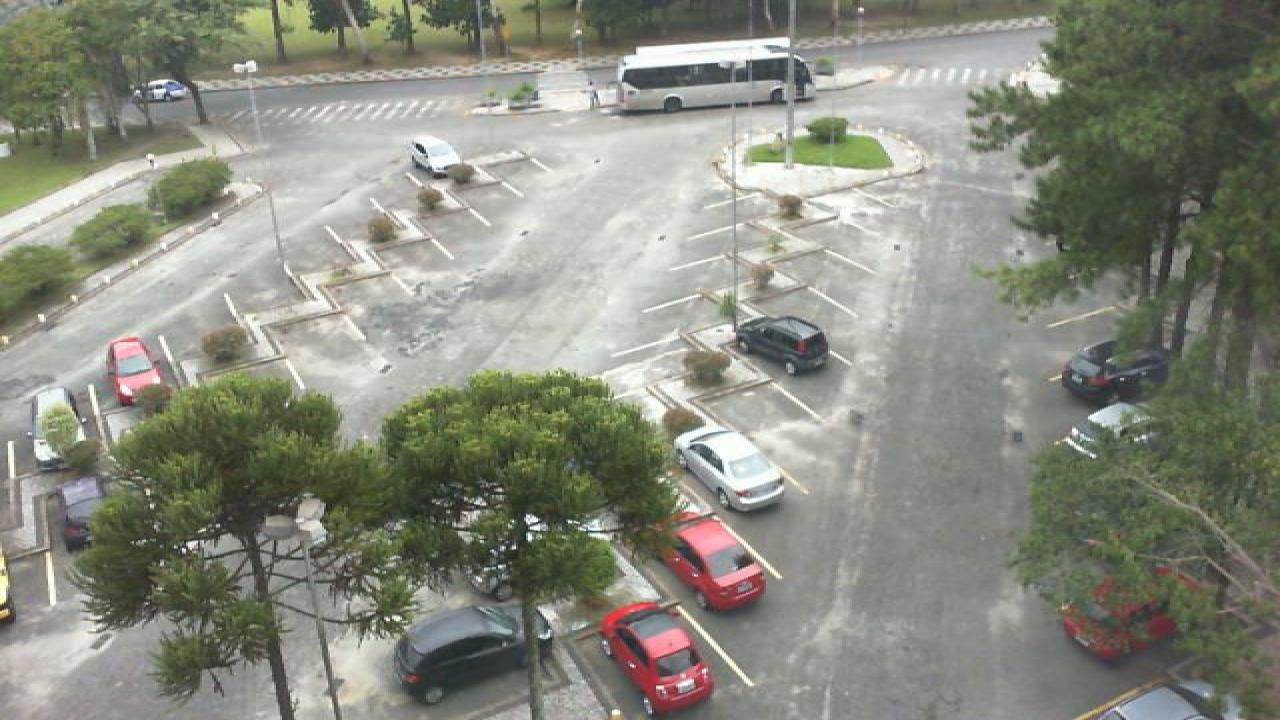Car: (390, 606, 534, 706), (600, 601, 716, 714), (650, 511, 768, 611), (672, 426, 790, 513), (1058, 579, 1176, 665), (1058, 337, 1170, 404), (730, 315, 834, 377), (1062, 402, 1162, 458), (104, 334, 174, 410), (28, 387, 90, 470), (1080, 683, 1218, 720), (54, 474, 108, 552), (406, 135, 464, 178), (138, 78, 190, 103)
